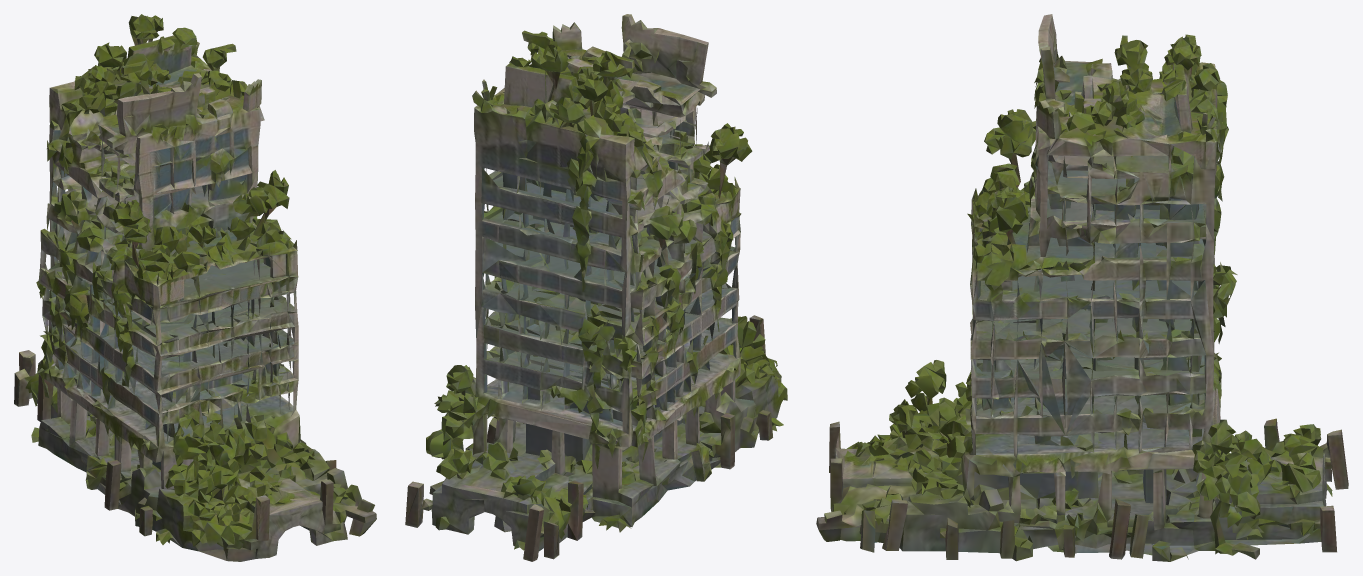
The model's file is cityTower.glb.
The picture shows the model from 3 angles, left to right: view 1: azimuth 30°, elevation 25°; view 2: azimuth 150°, elevation 25°; view 3: azimuth 270°, elevation 25°; orthographic projection. The views are drawn at different scales.
Visible parts, largest first — view 1: output_unwrapped; view 2: output_unwrapped; view 3: output_unwrapped.
Boxes of the visible parts, x1=… form: output_unwrapped: x1=14, y1=14, x2=376, y2=561; output_unwrapped: x1=405, y1=14, x2=787, y2=561; output_unwrapped: x1=816, y1=14, x2=1348, y2=561.
Bounding box in the file's own units: 0.9191 × 1.87 × 1.9.
Materials: 1 (1 with a texture image).
